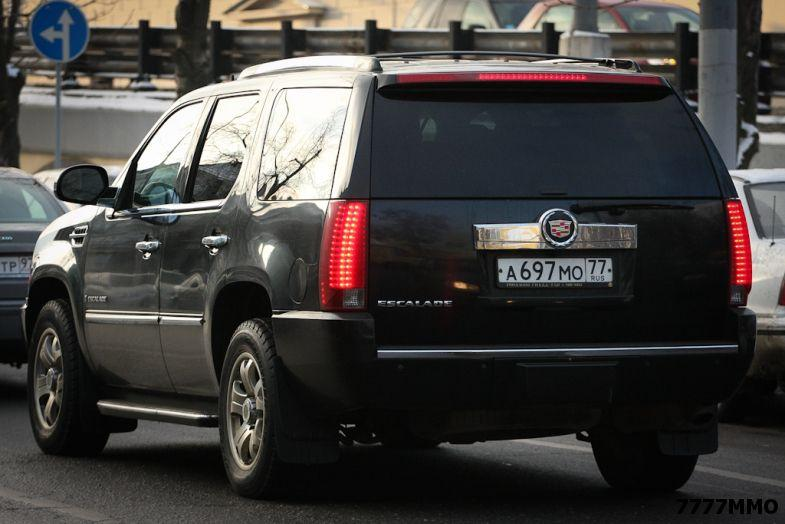license-plateSW: (496, 257, 615, 283), (0, 257, 33, 273)
